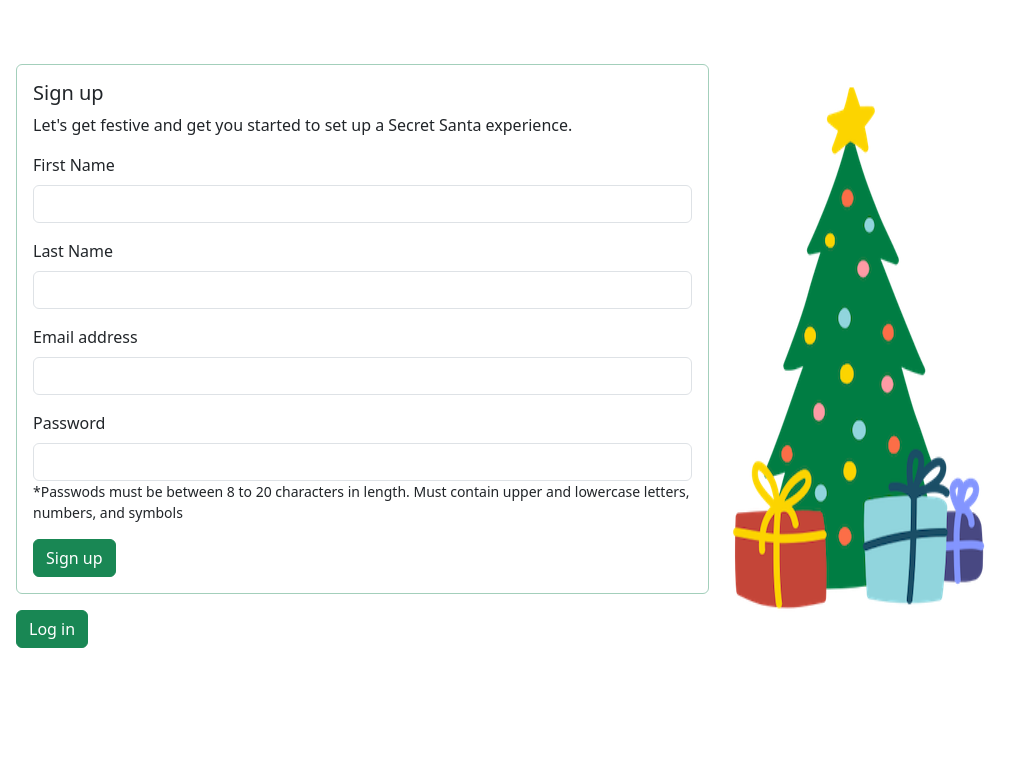
Signup.tsx form validation › Password throws validation error when it's greater then 8 characters, but doesn't match regex
The image size is (1024, 768).
In the field below "First Name": (362, 204) [33,185,692,223], type "John"
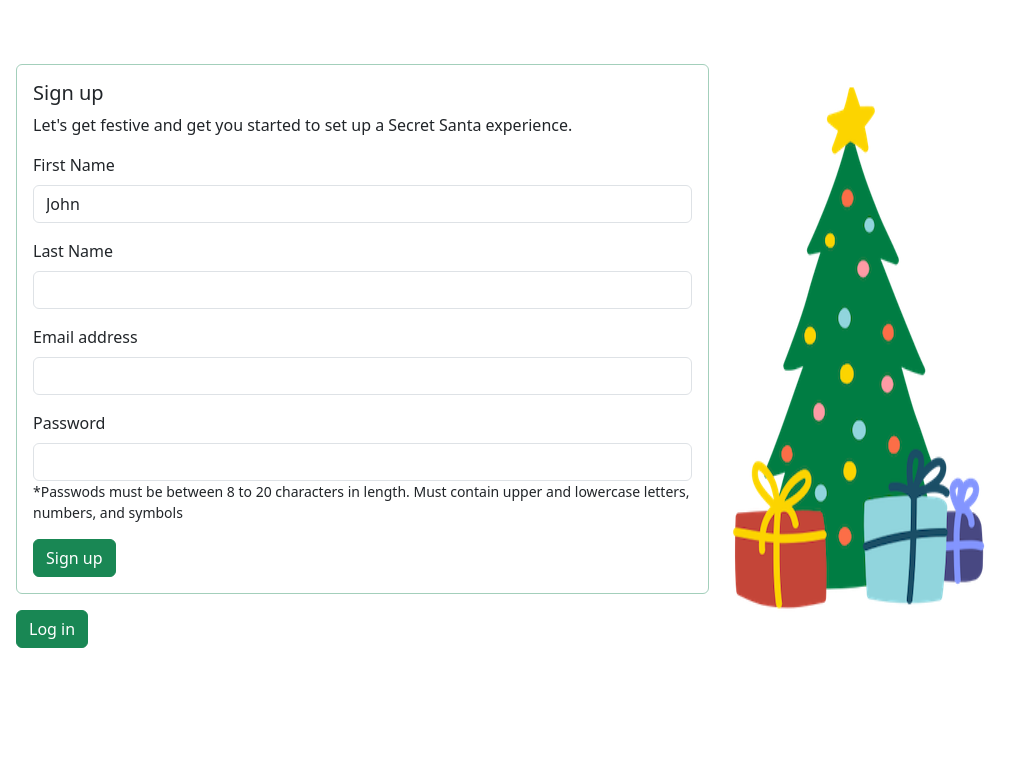
In the field below "Last Name": (362, 290) [33,271,692,309], type "Doe"
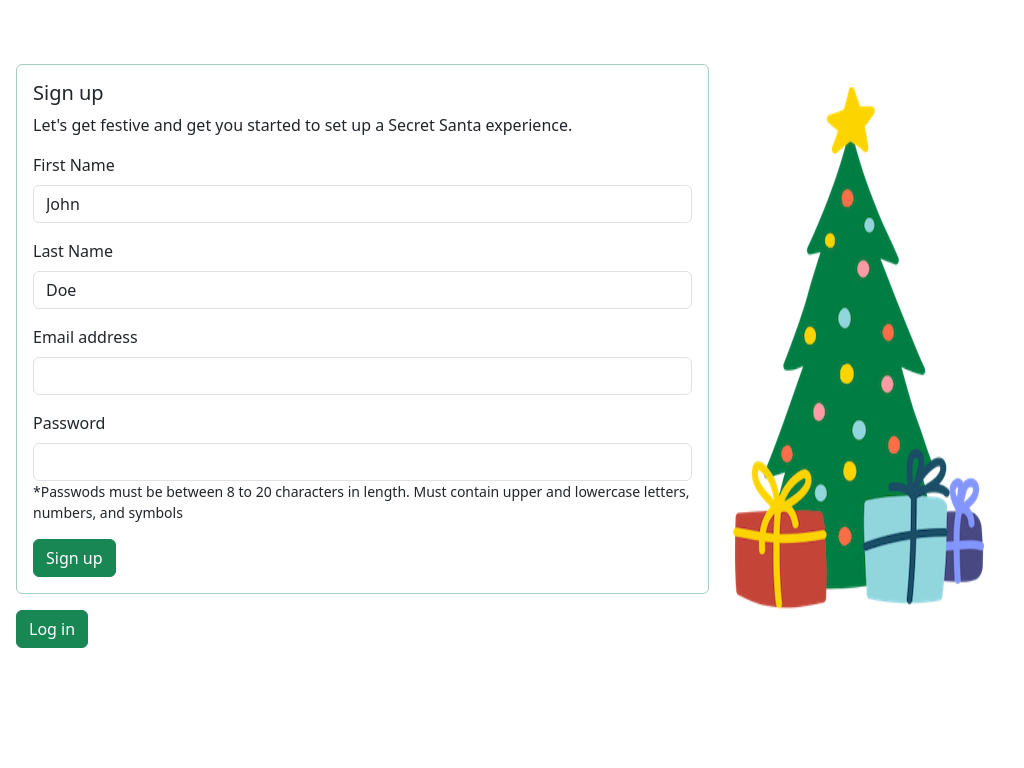
In the field below "Email address": (362, 376) [33,357,692,395], type "test@test.com"
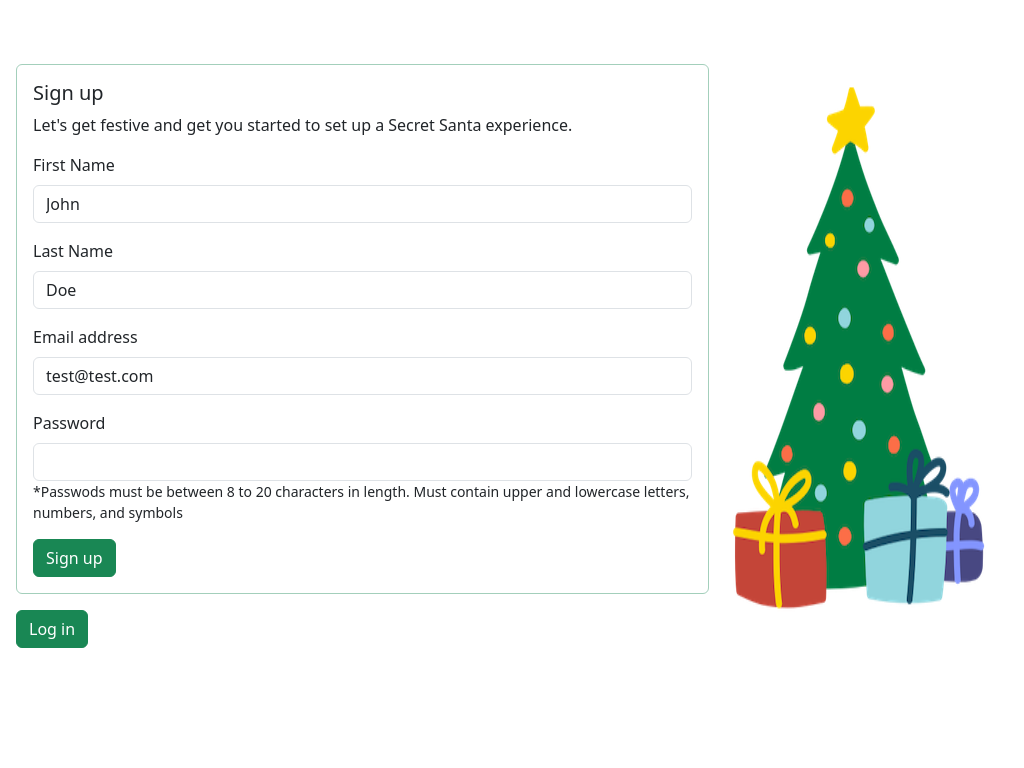
In the field below "Password": (362, 462) [33,443,692,481], type "Password92"
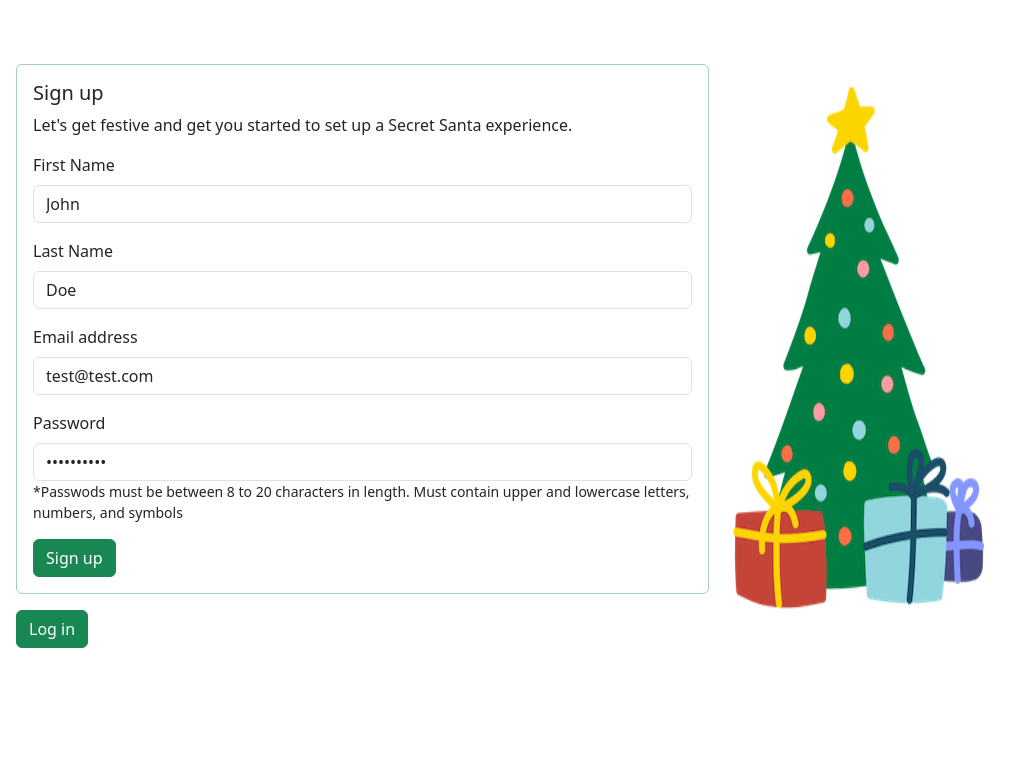
Click the button "Sign up": (74, 558) [33,539,116,577]
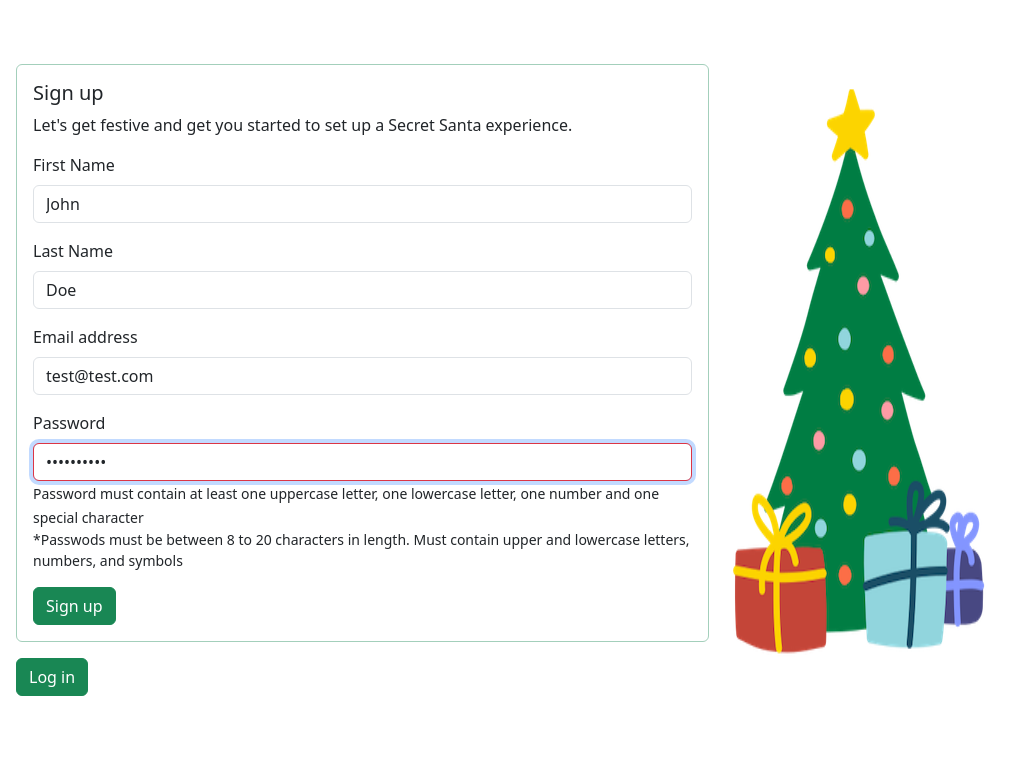
Result: the text "Password must contain at least one uppercase letter, one lowercase letter, one number and one special character" is shown at [33,484,659,527]
